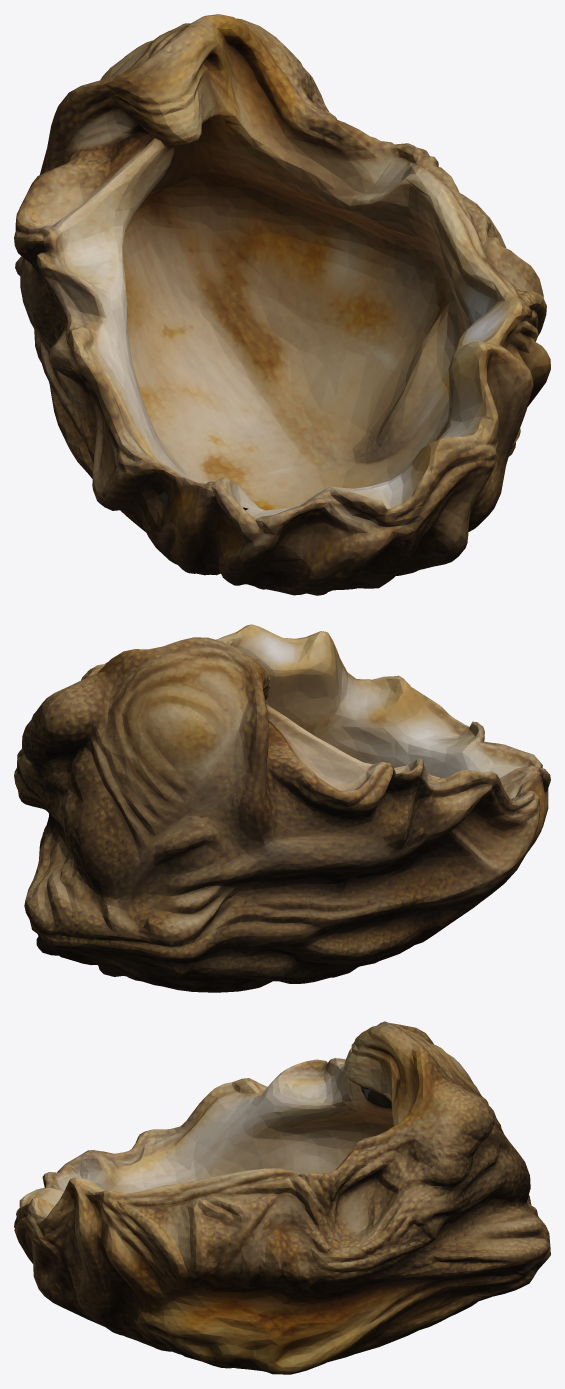
The picture shows the model from 3 angles, top to bottom: view 1: azimuth 30°, elevation 25°; view 2: azimuth 150°, elevation 25°; view 3: azimuth 270°, elevation 25°; orthographic projection. The views are drawn at different scales.
Visible parts, largest first — view 1: world; view 2: world; view 3: world.
Part boxes in pixels (<box>): world: <box>14,14,550,595</box>; world: <box>14,624,550,992</box>; world: <box>14,1021,550,1374</box>.
Bounding box in the file's own units: 0.0785 × 0.0717 × 0.1088.
1 material, 1 textured.
